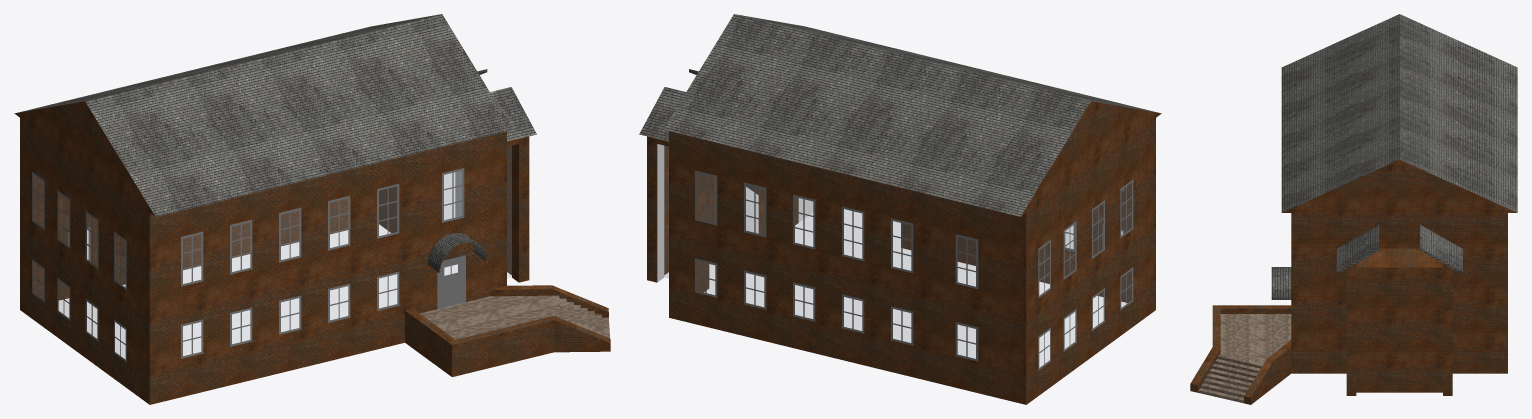
The model's file is chagall.glb.
The picture shows the model from 3 angles, left to right: view 1: azimuth 30°, elevation 25°; view 2: azimuth 150°, elevation 25°; view 3: azimuth 270°, elevation 25°; orthographic projection. The views are drawn at different scales.
Parts seen in each view (by area): view 1: Geom3D (×5); view 2: Geom3D (×4), Geom3D_; view 3: Geom3D (×3).
Part boxes in pixels (x1=…): Geom3D (×5): x1=14, y1=14, x2=610, y2=404; Geom3D (×4): x1=639, y1=14, x2=1161, y2=404; Geom3D_: x1=657, y1=144, x2=813, y2=282; Geom3D (×3): x1=1190, y1=14, x2=1517, y2=404.
Bounding box in the file's own units: 21.29 × 12 × 16.65.
Materials: 5 (3 with a texture image).
